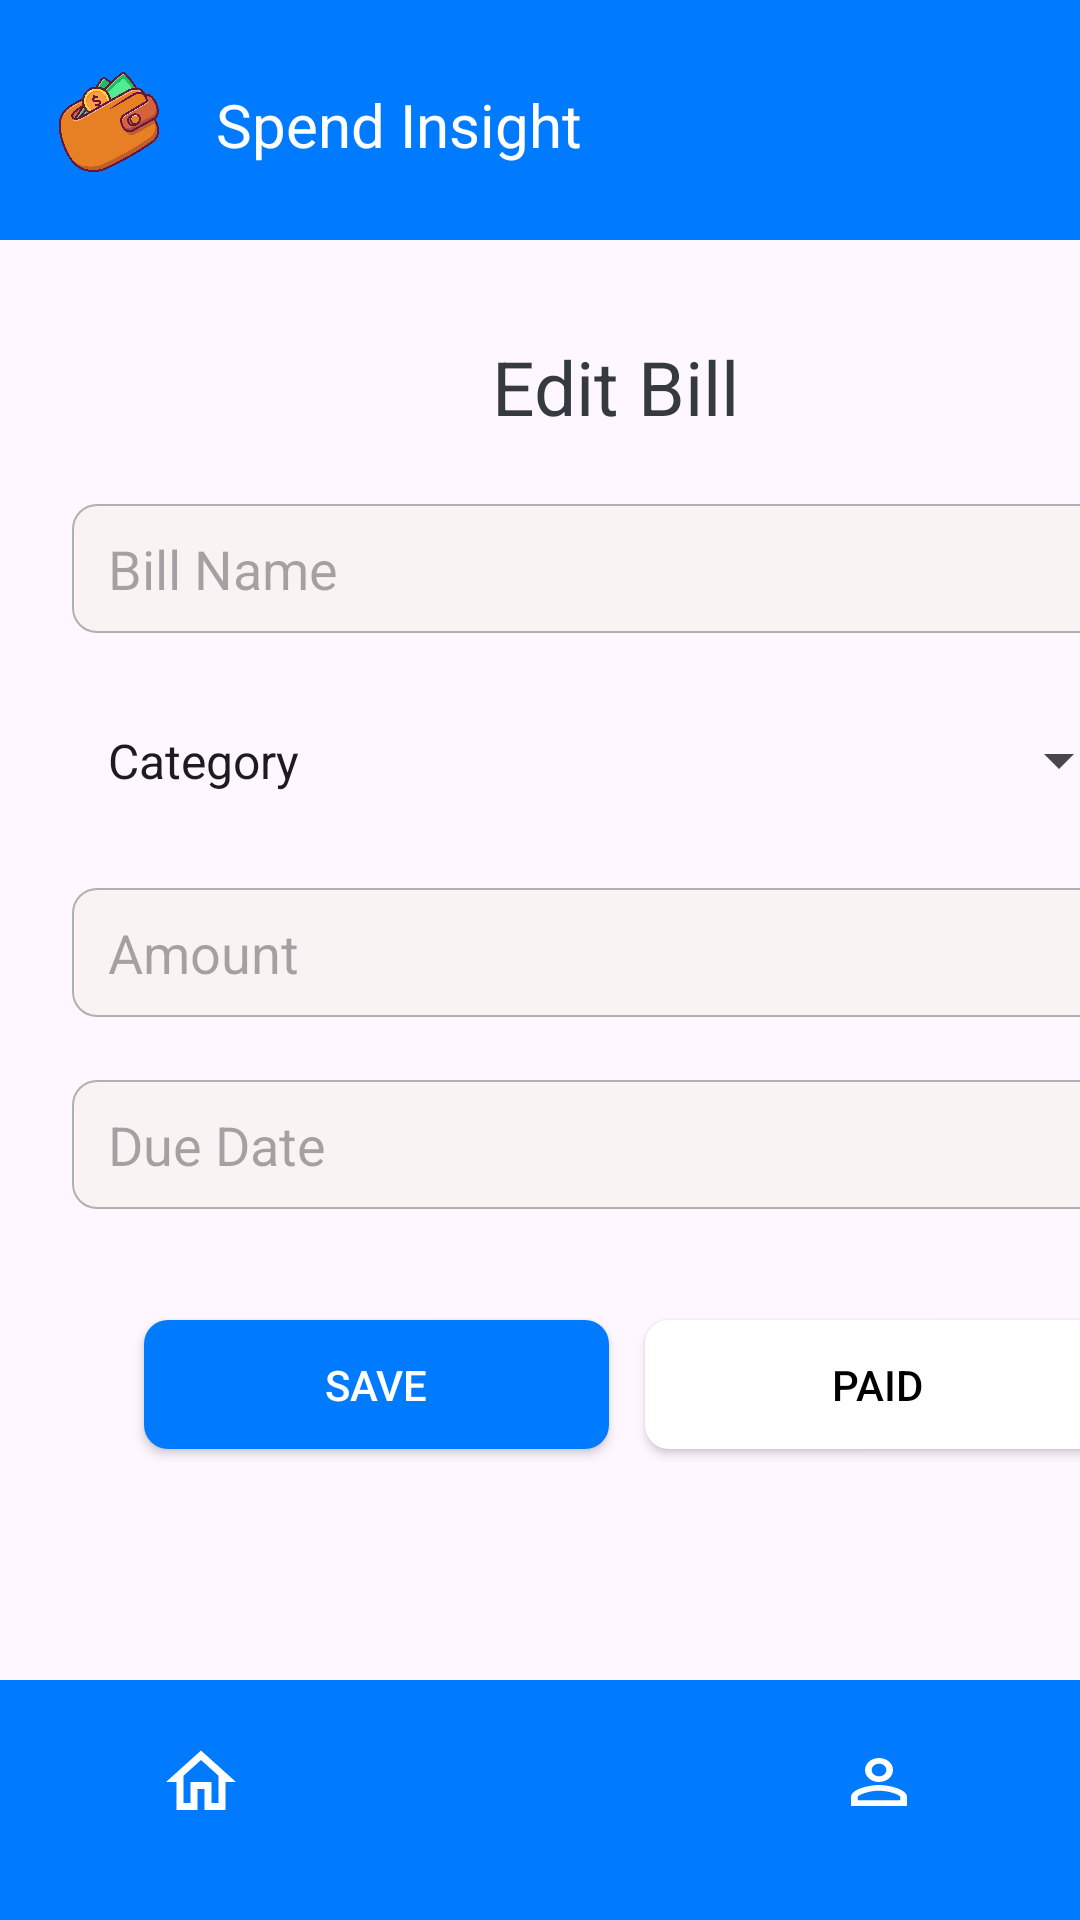

Point at icon controls on the screen. Image size 1080 x 1920, points as point (x, y).
home: point (201, 1780)
person: point (879, 1782)
